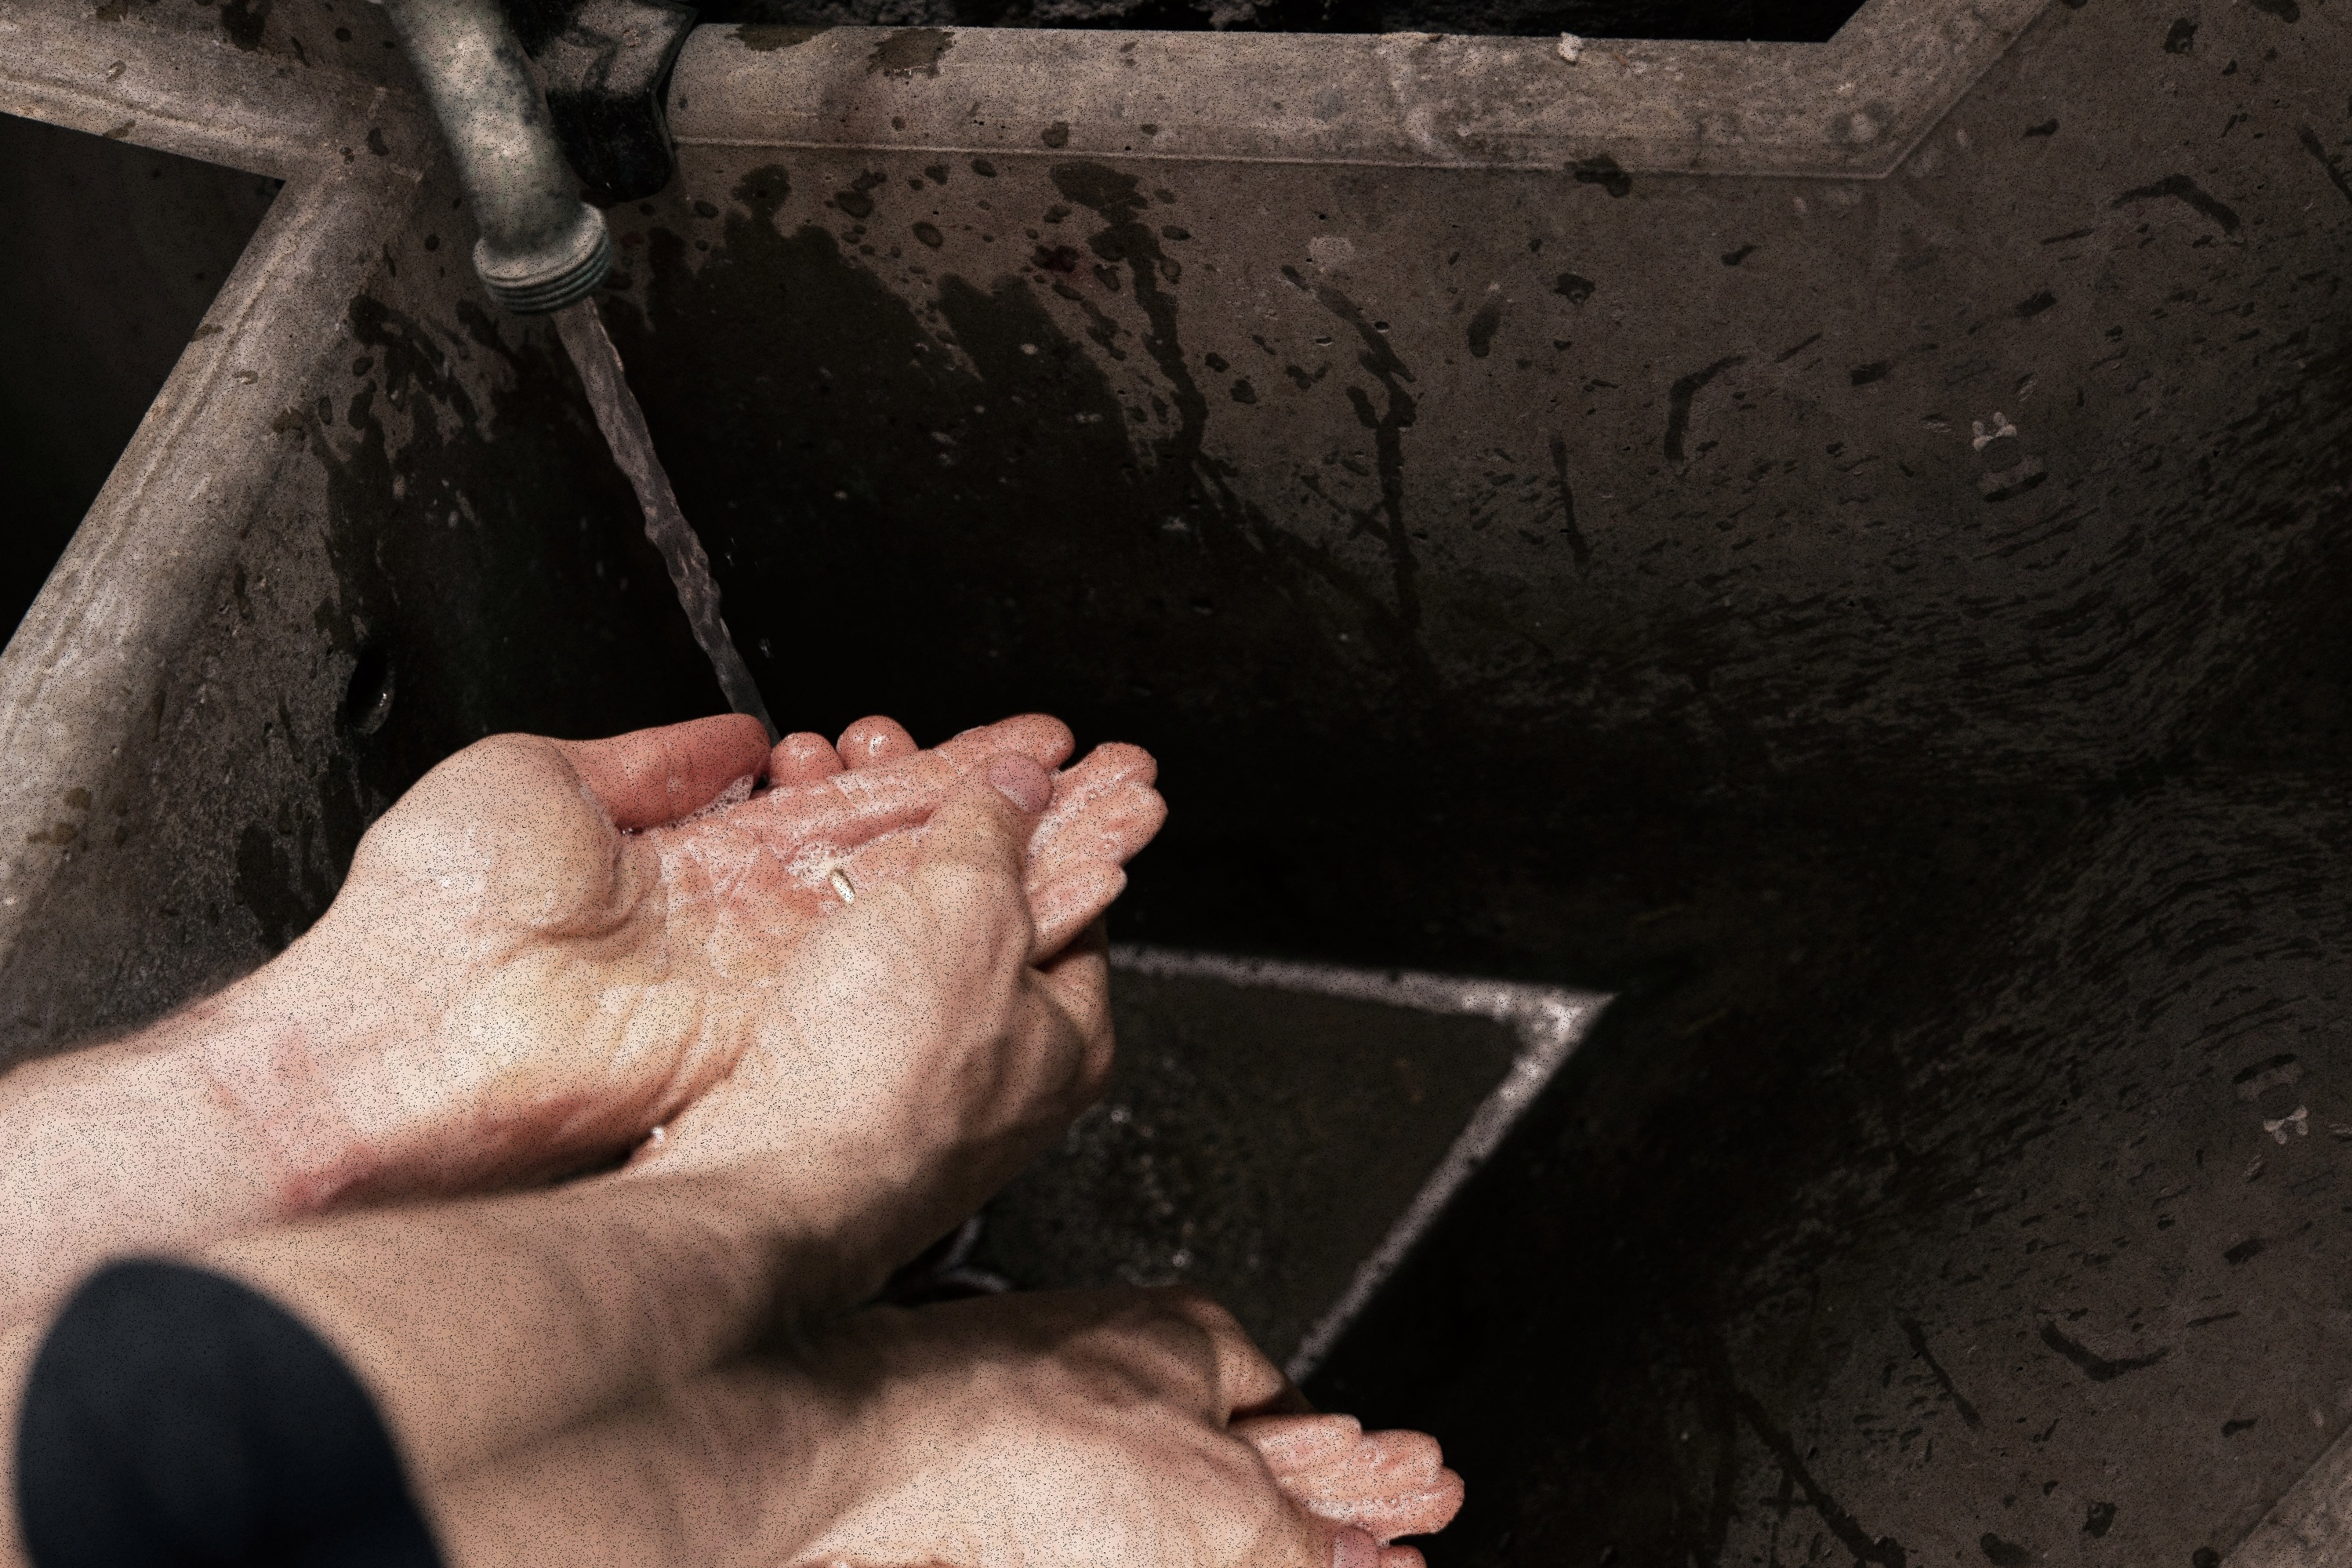washing hand: (0, 0, 1489, 1486)
